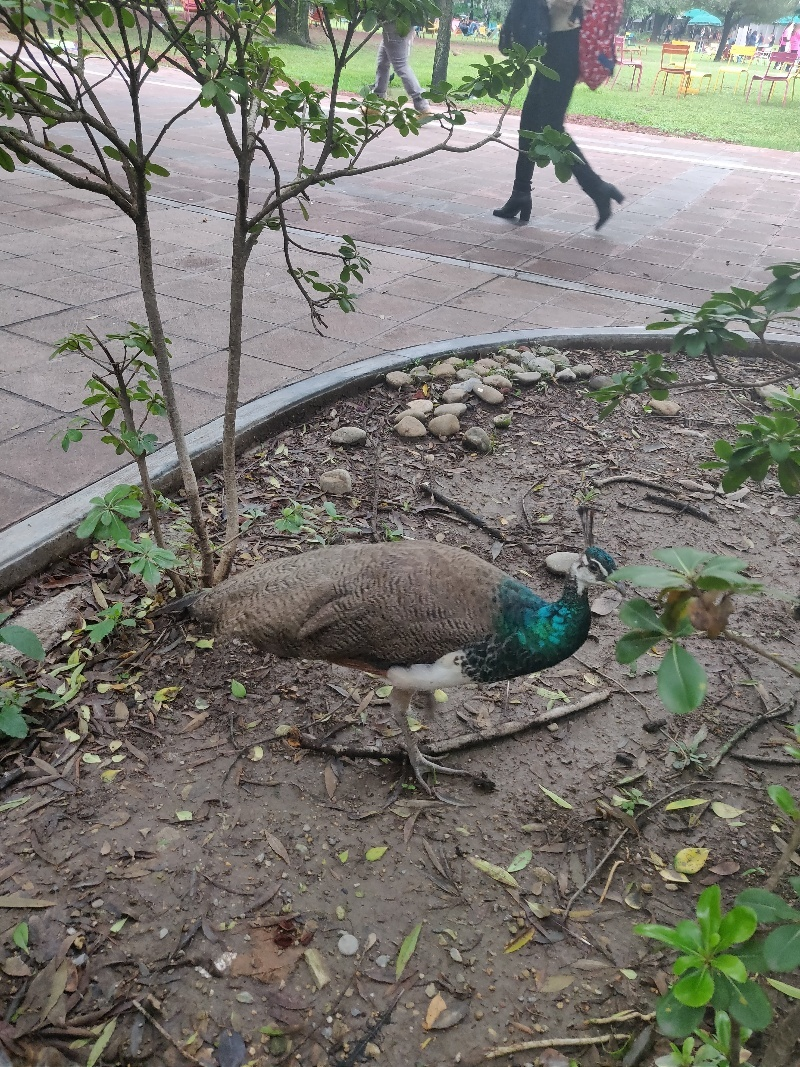pavoreal: (257, 520, 606, 695)
